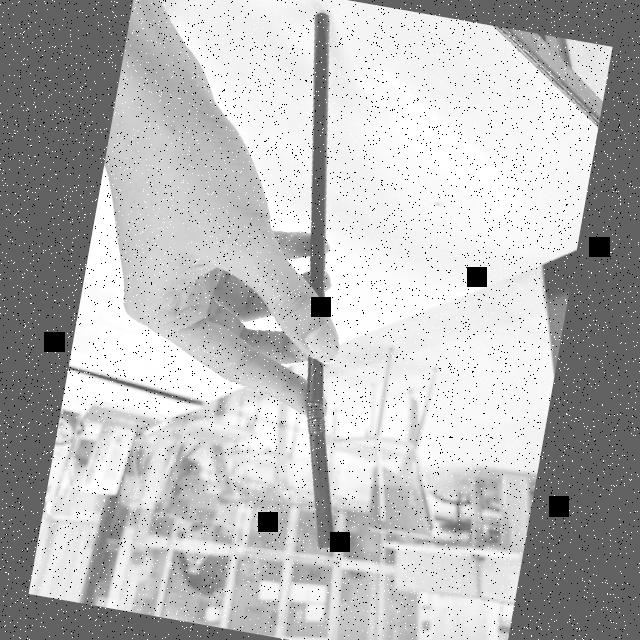straw: (212, 7, 429, 560)
